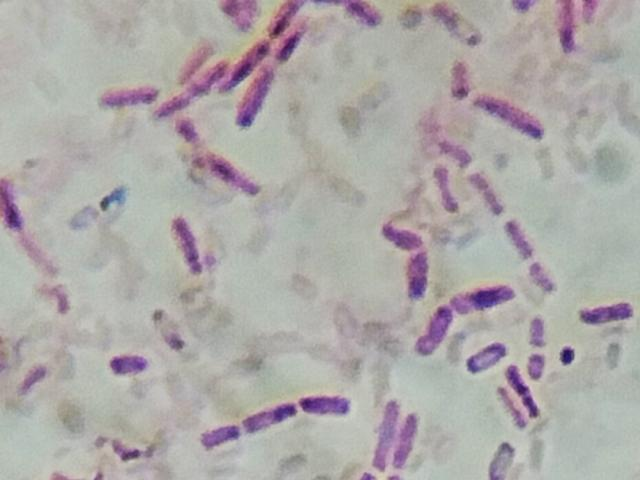E. coli: (0, 180, 45, 279), (478, 90, 550, 137), (382, 217, 426, 291), (369, 395, 400, 475), (166, 210, 204, 274), (178, 47, 223, 99), (212, 153, 259, 202), (243, 395, 296, 437), (229, 39, 272, 89), (451, 279, 512, 314), (414, 302, 450, 360), (106, 343, 156, 381), (501, 365, 532, 424), (298, 385, 345, 422), (395, 413, 423, 475), (469, 165, 502, 217), (553, 0, 581, 60), (583, 296, 632, 330), (443, 60, 478, 105), (239, 74, 266, 130), (346, 0, 386, 36), (503, 210, 532, 259), (201, 415, 238, 453), (459, 339, 501, 370), (526, 253, 553, 295), (182, 116, 203, 163), (436, 163, 455, 213), (272, 0, 301, 32), (528, 320, 546, 366), (283, 29, 305, 61)
